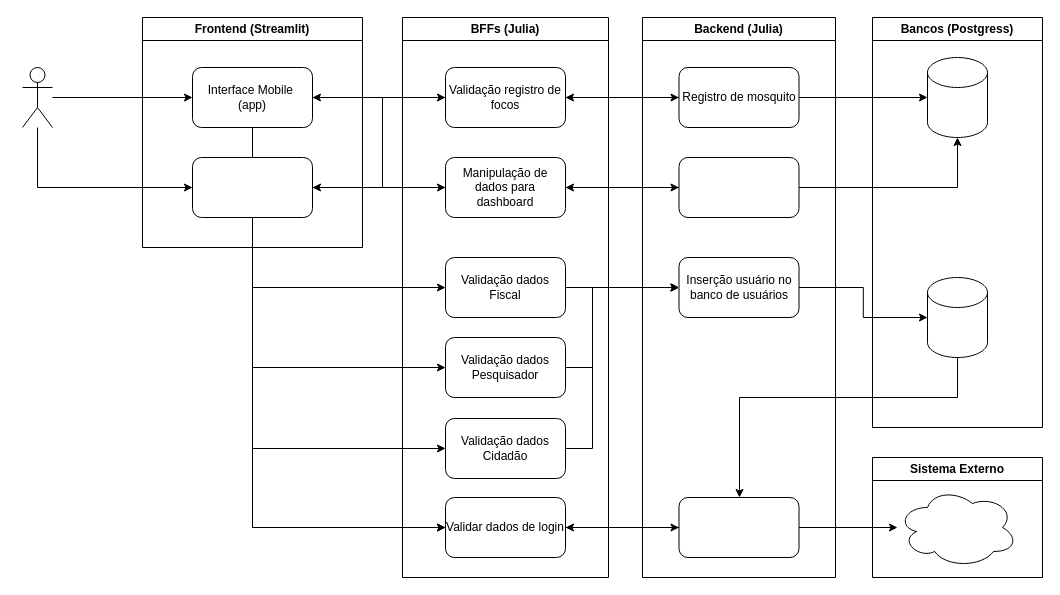
Image size: 1060x595. Some labels were removed from this diagram. Here are the shapes that lost their labels. From the top down, the centre of each, then its label:
At pixel 37 97: "Usuário".
At pixel 957 97: "Dados Musquitos".
At pixel 252 187: "Interface Web".
At pixel 738 187: "Busca de registros de mosquitos".
At pixel 957 317: "Dados Usuários".
At pixel 738 527: "Autenticação usuário".
At pixel 957 527: "Gerar token".
